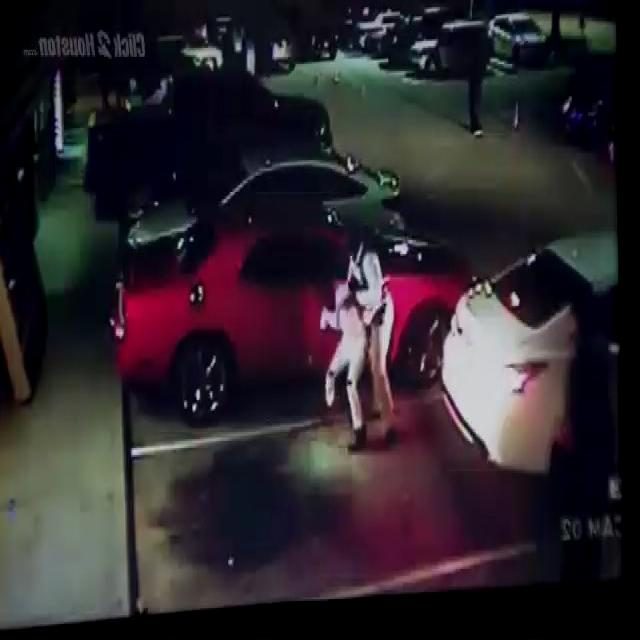fight: (320, 232, 394, 460)
